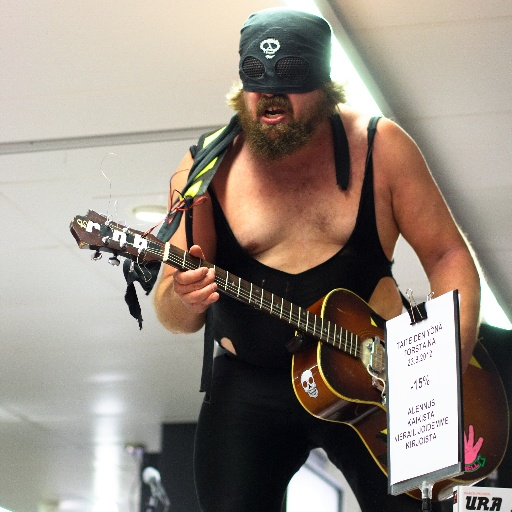hand: (171, 240, 219, 315)
